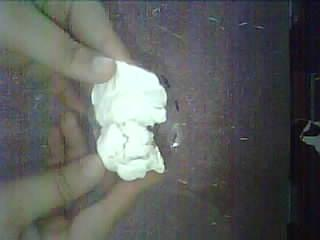paper: (92, 61, 167, 181)
